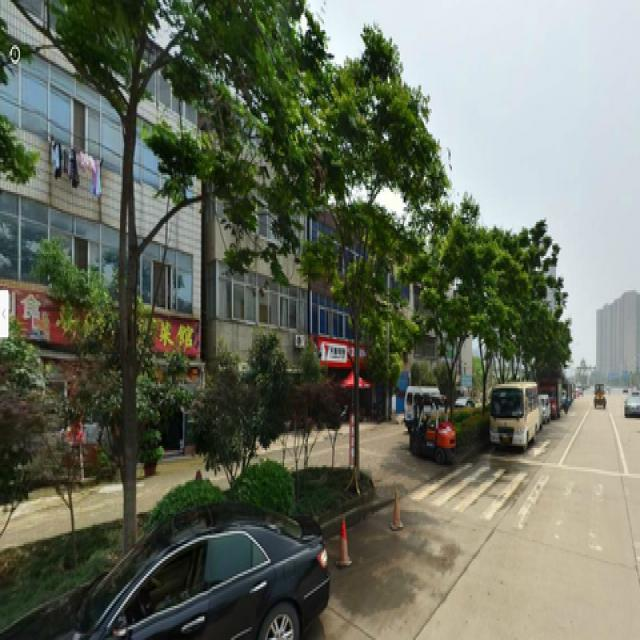koel: (322, 41, 427, 472)
